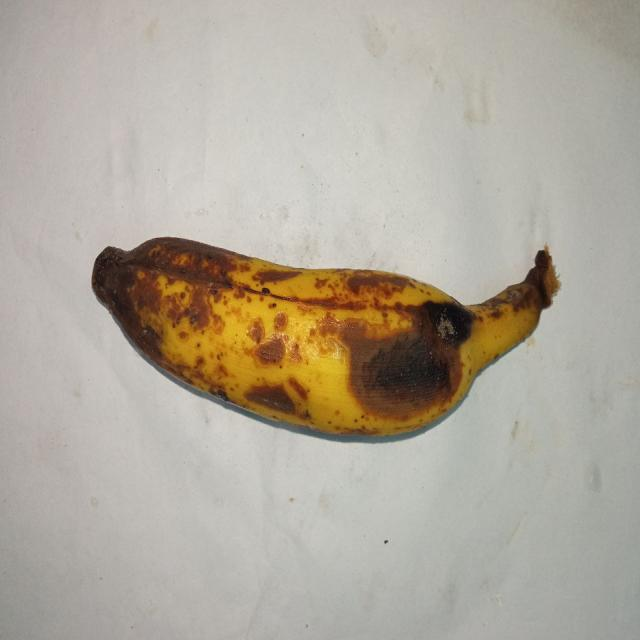rotten_banana: (92, 235, 556, 434)
